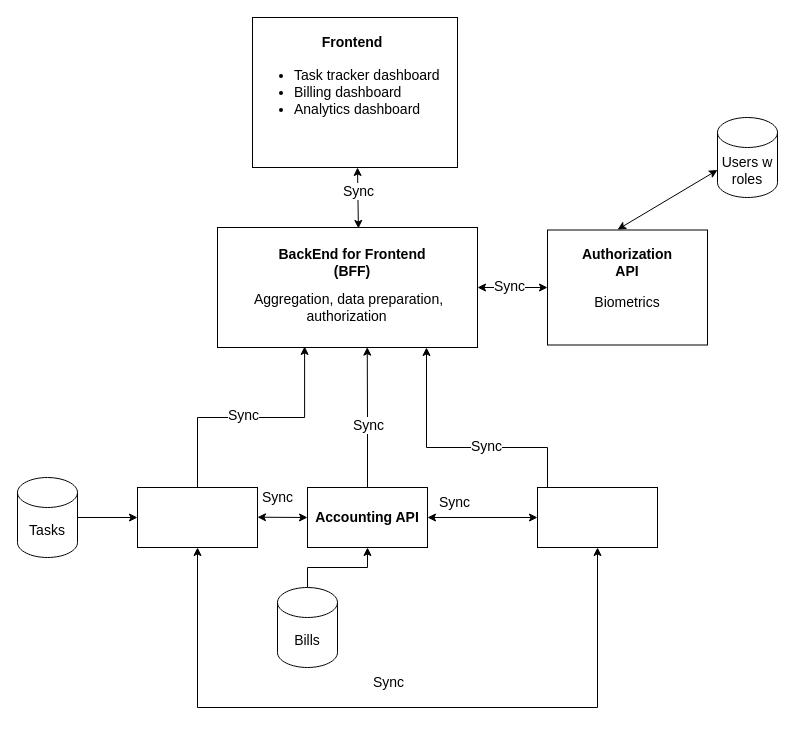
Image size: 795x734. Some labels were removed from this diagram. The box of each missing label's shape, as (x1, y1, x2, y2) in pixels:
Analytics API: (536, 486, 658, 548)
Tasks API: (136, 486, 258, 548)
